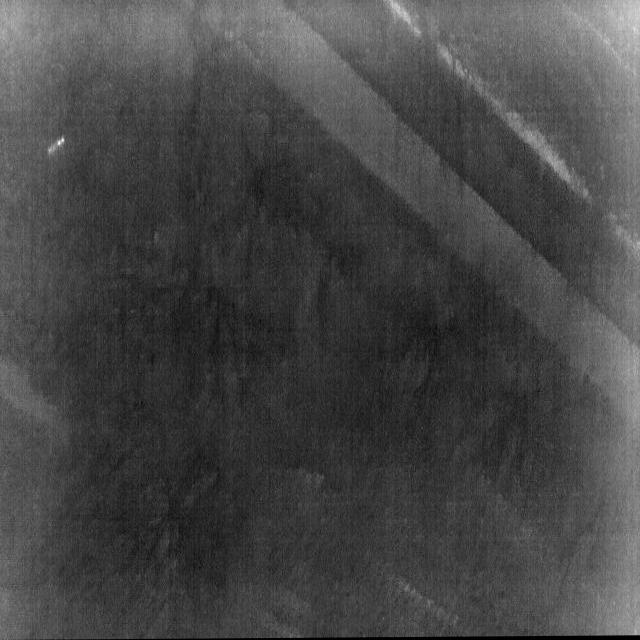deer: (46, 136, 66, 155)
